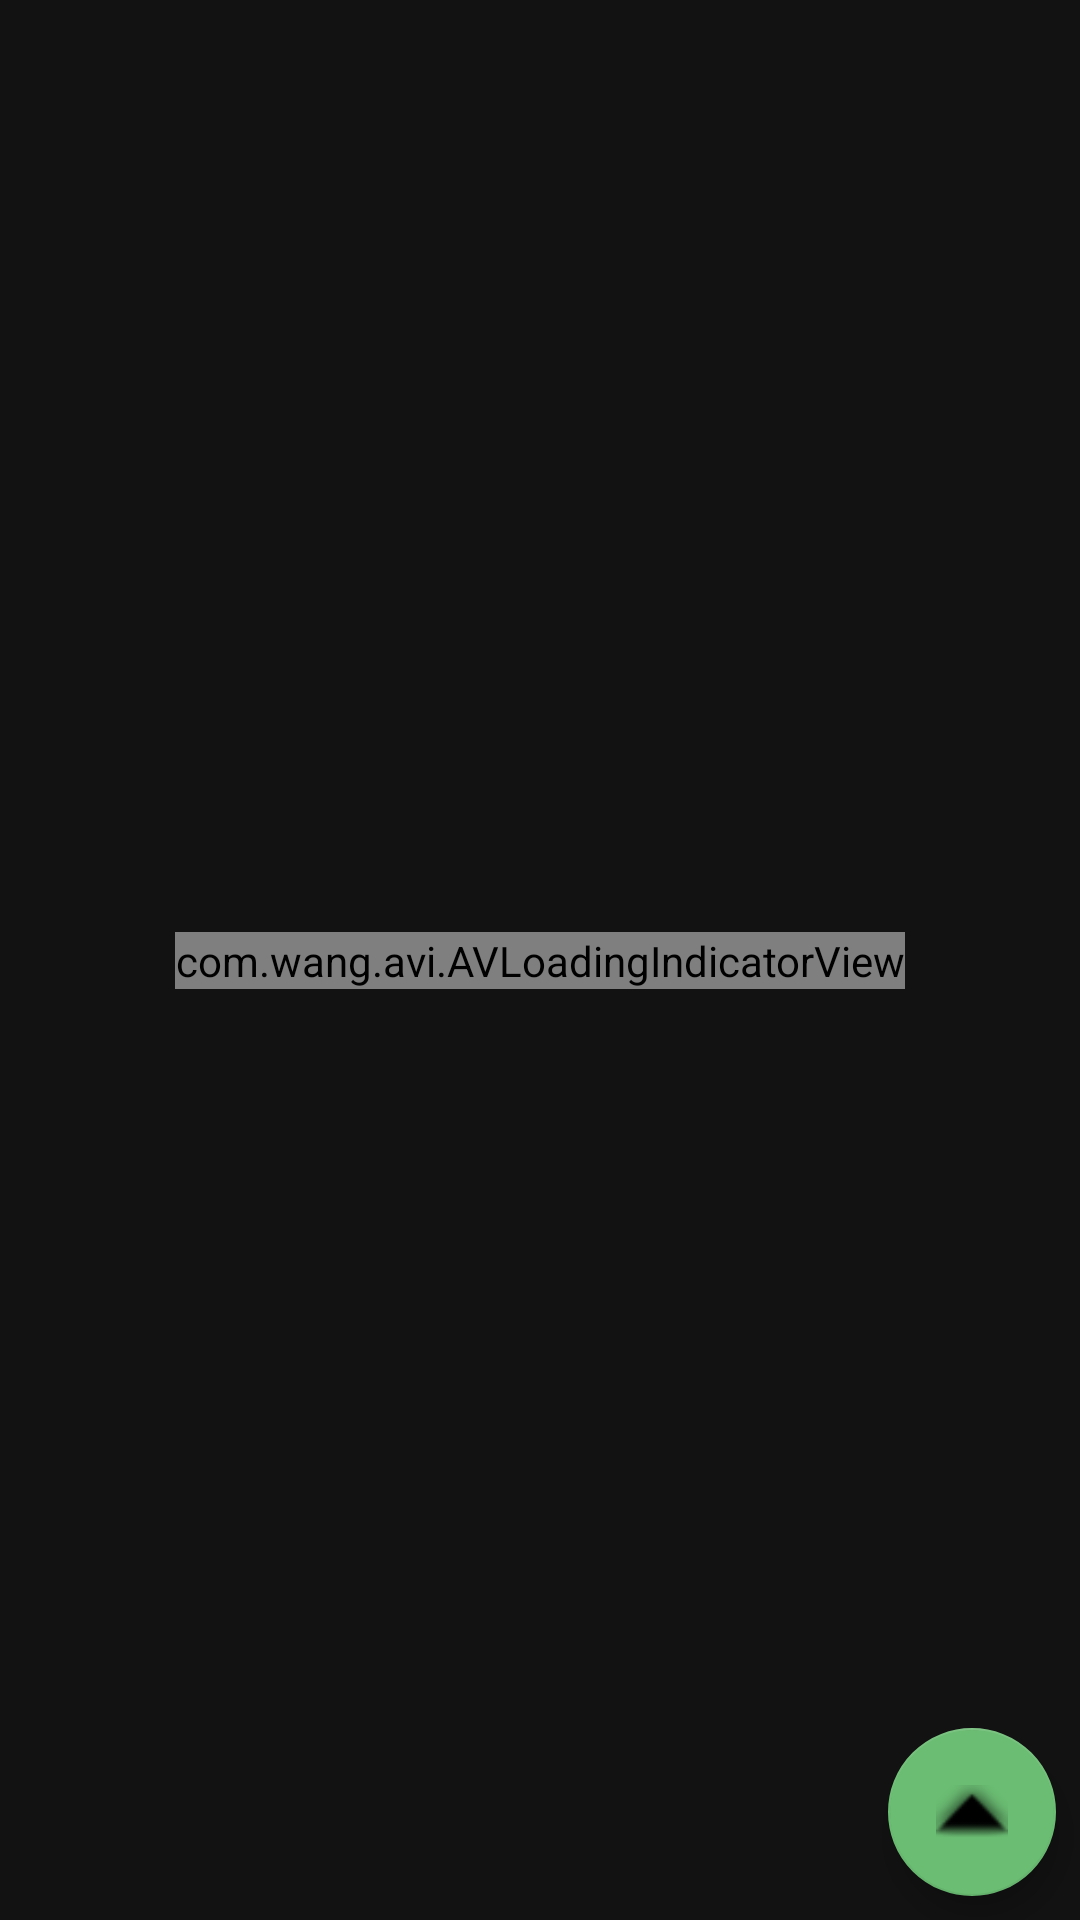

Named icons in this screenshot (1080 × 1920) and their bounding boxes, {"left": x1, "top": y1, "right": x2, "bottom": y2}:
arrow up float: {"left": 888, "top": 1728, "right": 1056, "bottom": 1896}
